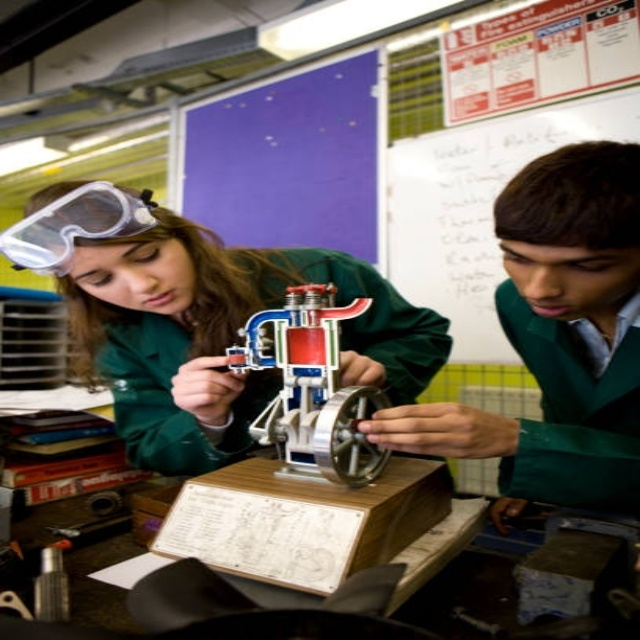Sin_gafas: (67, 236, 169, 293), (494, 241, 616, 279)
Sin_guantes: (356, 399, 518, 460), (171, 350, 256, 418)
Sin_mascara: (518, 291, 587, 322), (125, 281, 190, 313)
